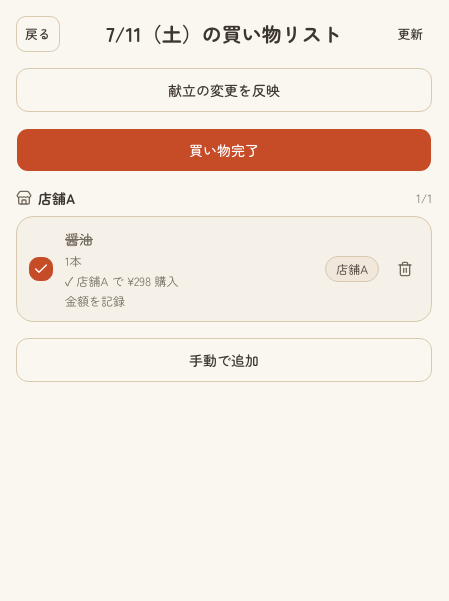
Test case: ShoppingListClient（チェック・購入・店舗再割当） › LC-08: 同一 item への再送信で金額が上書きされる（S-3 上書き）
Click the button "金額を記録" at (95, 301), box [65,293,125,309]
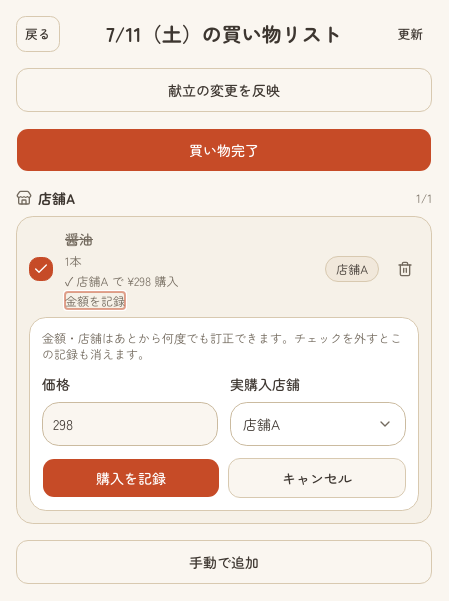
Check: the number field labelled "価格" holds "298"
Replace the text in the number field labelled "価格" with "350" at (130, 424), box [42,402,218,446]
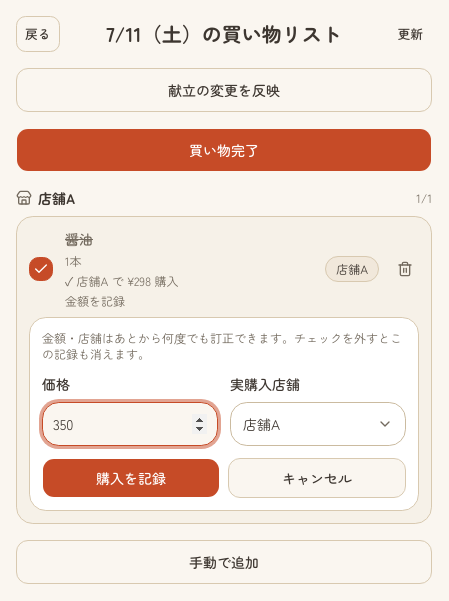
Click the button "購入を記録" at (131, 478), box [42,458,220,498]
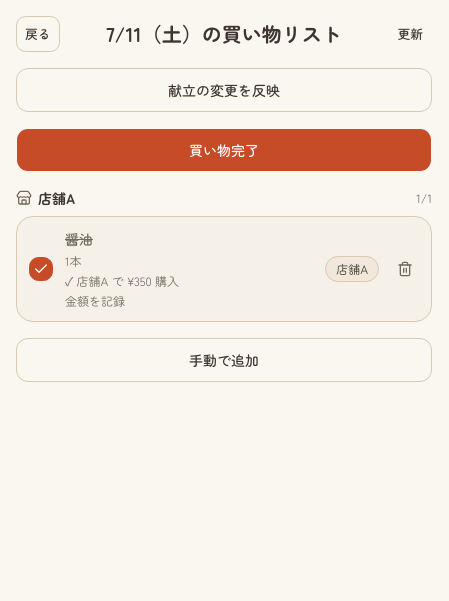
Check: the text "✓ 店舗A で ¥350 購入" is shown, box [65,272,179,289]
